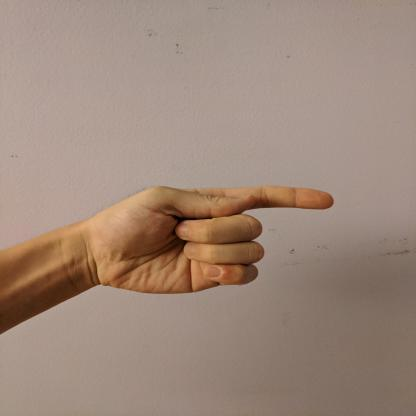G: (86, 180, 340, 296)
